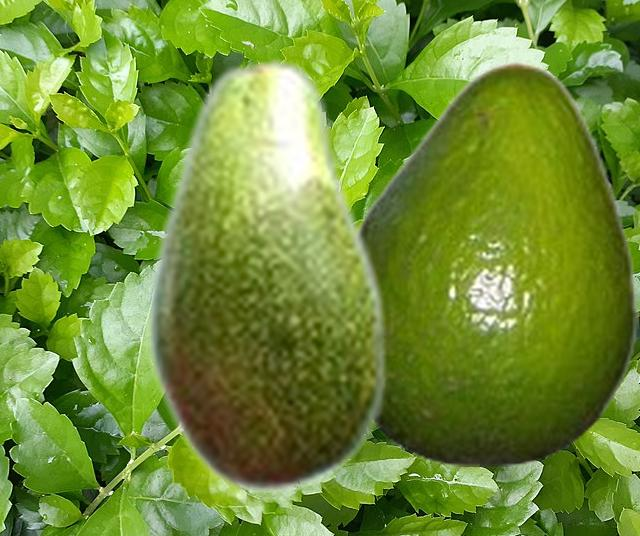avocado: (358, 60, 637, 465), (146, 54, 388, 496)
